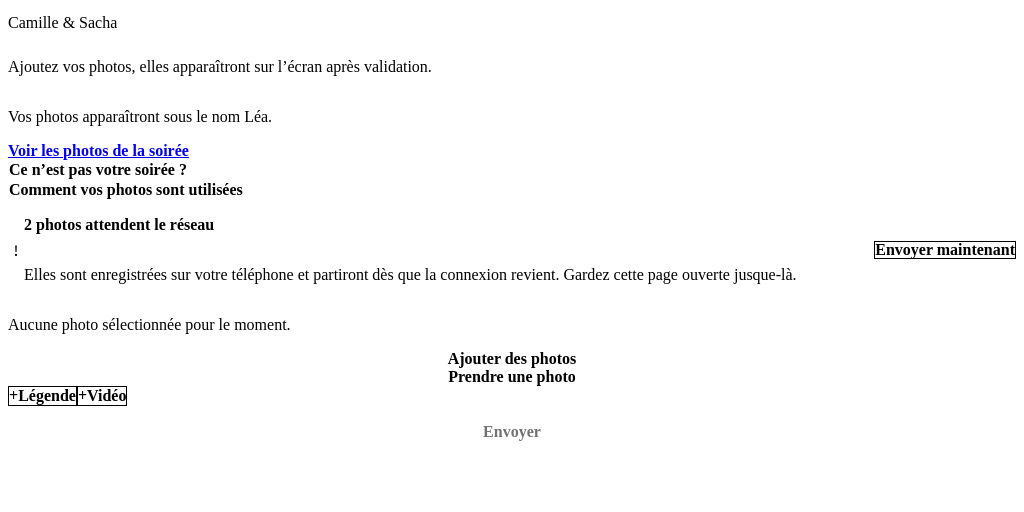
sending a video › offers video as a button that unfolds the pickers, not as two pickers always on screen
Check: the text "Ajouter une vidéo" is not shown
Click the button "+ Vidéo".
click(102, 396)  # box [77, 386, 127, 406]
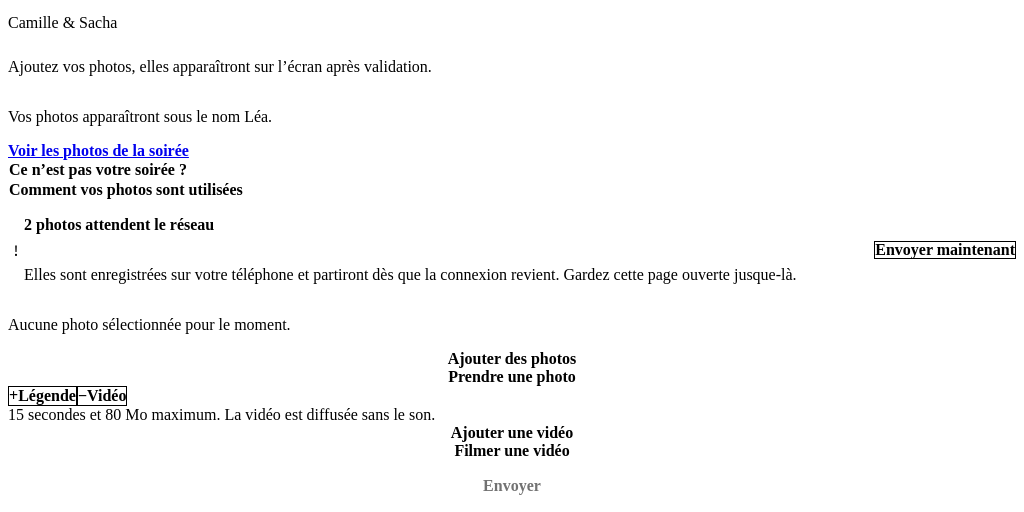
Check: the text "Ajouter une vidéo" is shown, box [451, 424, 573, 442]
